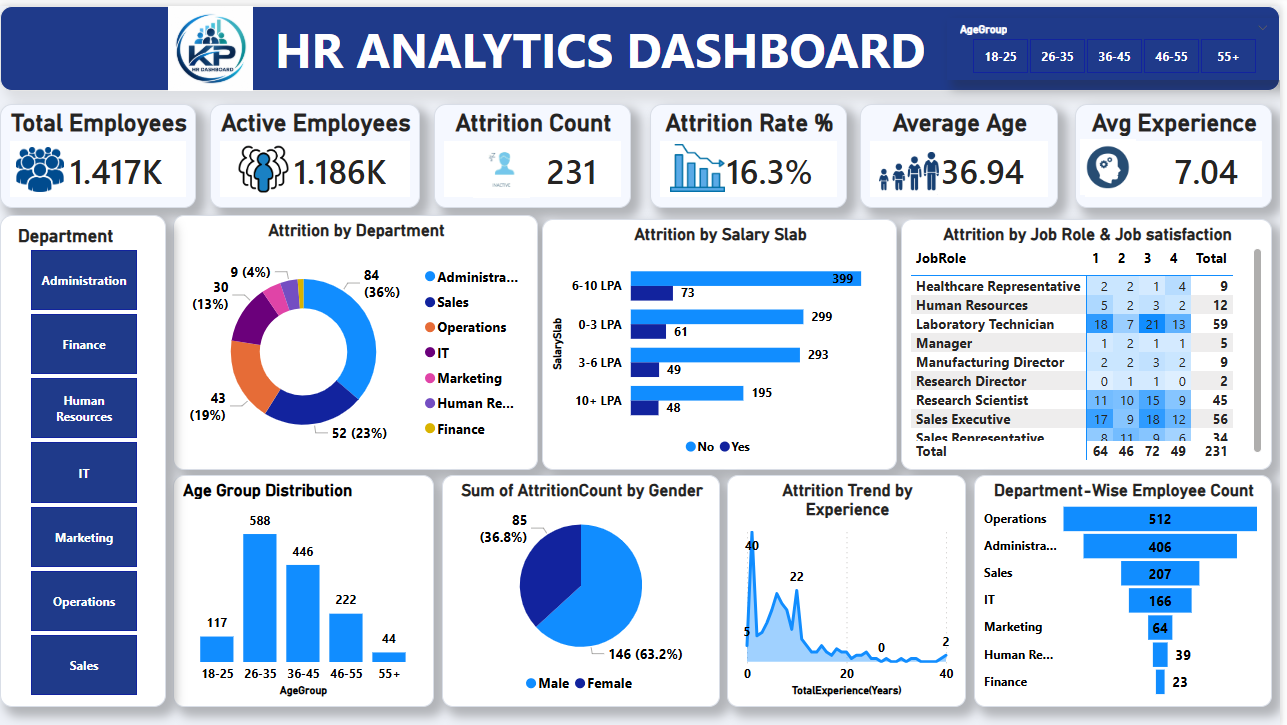

This screenshot's page, from the dashboard's own definition file:
{"tool":"powerbi","page":{"name":"Page 1","canvas":[1280,720],"ordinal":0},"visuals":[{"type":"textbox","box":[0,0,1280.3,85.1],"z":0},{"type":"image","box":[164.9,0,90.6,85.2],"z":1000},{"type":"cardVisual","title":"Total Employees","fields":{"Data":["CountNonNull(HR_Analytics-4.EmpID)"]},"box":[0,98.2,196.3,103.9],"z":2000},{"type":"cardVisual","title":"Active Employees","fields":{"Data":["CountNonNull(HR_Analytics-4.EmployeeCount)"]},"box":[209.8,98.2,209.8,103.9],"z":3000},{"type":"cardVisual","title":"Attrition Rate %","fields":{"Data":["HR_Analytics-4.Attrition Rate %"]},"box":[649.6,98.2,197.3,103.9],"z":4000},{"type":"cardVisual","title":"Average Age","fields":{"Data":["Avg(HR_Analytics-4.Age)"]},"box":[860.4,98.2,197.3,103.9],"z":5000},{"type":"cardVisual","title":"Avg Experience","fields":{"Data":["Avg(HR_Analytics-4.YearsatCompany)"]},"box":[1075,98,197,104],"z":6000},{"type":"cardVisual","title":"Attrition Count","fields":{"Data":["Sum(HR_Analytics-4.AttritionCount)"]},"box":[434,98.2,197.3,103.9],"z":7000},{"type":"image","box":[14.4,140.9,51.2,44.9],"z":8000},{"type":"image","box":[879.1,140,60,54.5],"z":9000},{"type":"image","box":[1057.7,132.5,99.4,56.4],"z":10000},{"type":"image","box":[667.9,137.6,58.7,48.1],"z":11000},{"type":"image","box":[461,135,81,57],"z":12000},{"type":"image","box":[222.3,134.7,81.8,52.9],"z":13000},{"type":"donutChart","title":"Attrition by Department","fields":{"Category":["HR_Analytics-4.Department"],"Y":["Sum(HR_Analytics-4.AttritionCount)"]},"box":[173.2,208.8,364.8,255],"z":14000},{"type":"clusteredBarChart","title":"Attrition by Salary Slab","fields":{"Category":["HR_Analytics-4.SalarySlab"],"Y":["CountNonNull(HR_Analytics-4.EmpID)"],"Series":["HR_Analytics-4.Attrition"]},"box":[541.8,212.7,355.1,251.2],"z":15000},{"type":"pivotTable","title":"Attrition by Job Role & Job satisfaction","fields":{"Rows":["HR_Analytics-4.JobRole"],"Values":["Sum(HR_Analytics-4.AttritionCount)"],"Columns":["HR_Analytics-4.JobSatisfaction"]},"box":[900.8,212.7,371.5,251.2],"z":16000},{"type":"columnChart","title":"Age Group Distribution","fields":{"Category":["HR_Analytics-4.AgeGroup"],"Y":["Sum(HR_Analytics-4.EmployeeCount)"]},"box":[173.2,468.7,260.8,231.9],"z":17000},{"type":"pieChart","fields":{"Category":["HR_Analytics-4.Gender"],"Y":["Sum(HR_Analytics-4.AttritionCount)"]},"box":[441.7,468.7,278.1,231.9],"z":18000},{"type":"areaChart","title":" Attrition  Trend by Experience","fields":{"Category":["HR_Analytics-4.TotalExperience(Years)"],"Y":["Sum(HR_Analytics-4.AttritionCount)"]},"box":[726.6,468.7,239.6,231.9],"z":19000},{"type":"funnel","title":"Department-Wise Employee Count","fields":{"Category":["HR_Analytics-4.Department"],"Y":["CountNonNull(HR_Analytics-4.EmpID)"]},"box":[974,468.7,298.3,231.9],"z":20000},{"type":"slicer","fields":{"Values":["HR_Analytics-4.Department"]},"box":[0,208.8,166.5,491.8],"z":21000},{"type":"slicer","fields":{"Values":["HR_Analytics-4.AgeGroup"]},"box":[947,11.5,333,62.6],"z":22000}]}

Visuals, with their boxes in screenshot pixels (x1, y1, x2, y2), scaled from the page's 1280x720 canvas onto the 1287x725 screenshot:
textbox: bbox(0, 0, 1286, 86)
image: bbox(166, 0, 257, 86)
"Total Employees" cardVisual: bbox(0, 99, 197, 204)
"Active Employees" cardVisual: bbox(211, 99, 422, 204)
"Attrition Rate %" cardVisual: bbox(653, 99, 852, 204)
"Average Age" cardVisual: bbox(865, 99, 1063, 204)
"Avg Experience" cardVisual: bbox(1081, 99, 1279, 203)
"Attrition Count" cardVisual: bbox(436, 99, 635, 204)
image: bbox(14, 142, 66, 187)
image: bbox(884, 141, 944, 196)
image: bbox(1063, 133, 1163, 190)
image: bbox(672, 139, 731, 187)
image: bbox(464, 136, 545, 193)
image: bbox(224, 136, 306, 189)
"Attrition by Department" donutChart: bbox(174, 210, 541, 467)
"Attrition by Salary Slab" clusteredBarChart: bbox(545, 214, 902, 467)
"Attrition by Job Role & Job satisfaction" pivotTable: bbox(906, 214, 1279, 467)
"Age Group Distribution" columnChart: bbox(174, 472, 436, 705)
pieChart - HR_Analytics-4.Gender x Sum(HR_Analytics-4.AttritionCount): bbox(444, 472, 724, 705)
" Attrition  Trend by Experience" areaChart: bbox(731, 472, 971, 705)
"Department-Wise Employee Count" funnel: bbox(979, 472, 1279, 705)
slicer - HR_Analytics-4.Department: bbox(0, 210, 167, 705)
slicer - HR_Analytics-4.AgeGroup: bbox(952, 12, 1286, 75)
